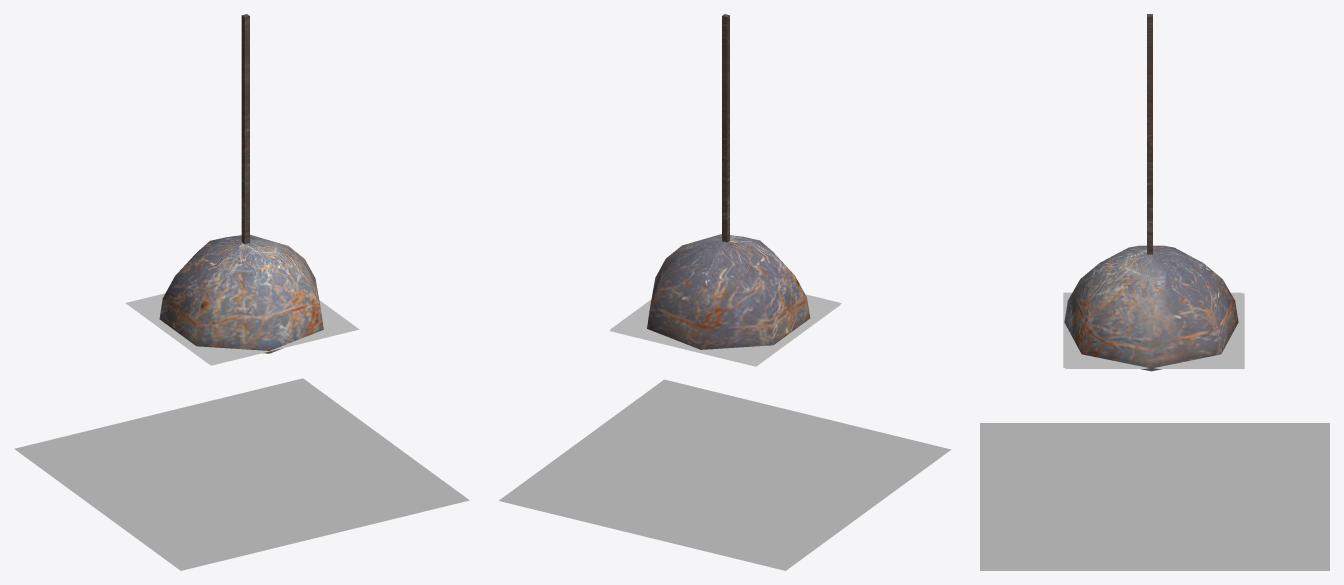
Rendered from iron_mine_lamp.dae.
3 views of the same model, side by side, from view 1: azimuth 30°, elevation 25°; view 2: azimuth 150°, elevation 25°; view 3: azimuth 270°, elevation 25° (orthographic). The views are drawn at different scales.
Visible parts, largest first — view 1: _bb_mine_grate_lightray_halo01, lamp, w; view 2: _bb_mine_grate_lightray_halo01, lamp, w; view 3: _bb_mine_grate_lightray_halo01, lamp, w.
Part boxes in pixels (x1,y1,x2,y2): _bb_mine_grate_lightray_halo01: [14, 378, 469, 570]; lamp: [159, 14, 323, 353]; w: [127, 294, 359, 365]; _bb_mine_grate_lightray_halo01: [499, 379, 951, 570]; lamp: [647, 14, 810, 349]; w: [610, 294, 841, 364]; _bb_mine_grate_lightray_halo01: [980, 423, 1329, 570]; lamp: [1064, 14, 1238, 371]; w: [1063, 292, 1241, 367].
Size of what is drawn, in the model's own units: 1 by 1.52 by 1.
